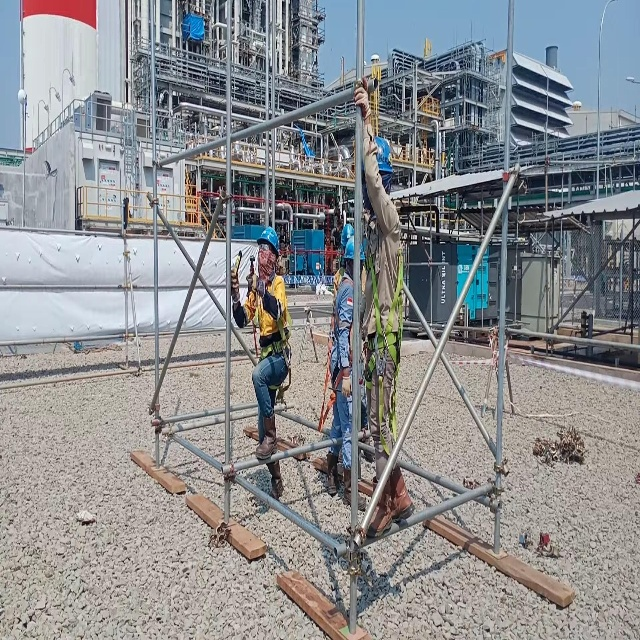Arnes_seguridad: (365, 229, 403, 455), (316, 275, 355, 434), (253, 265, 292, 399)
